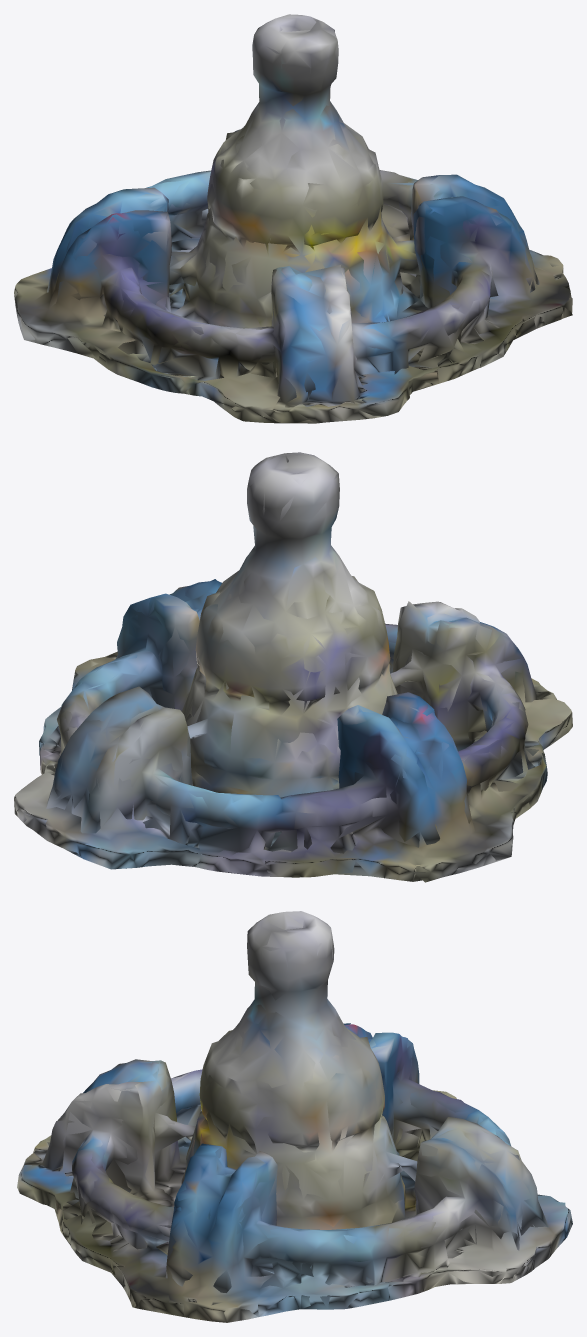
Rendered from allied_ore_purifier.glb.
The picture shows the model from 3 angles, top to bottom: view 1: azimuth 30°, elevation 25°; view 2: azimuth 150°, elevation 25°; view 3: azimuth 270°, elevation 25°; orthographic projection. The views are drawn at different scales.
Visible parts, largest first — view 1: allied_ore_purifier; view 2: allied_ore_purifier; view 3: allied_ore_purifier.
Boxes of the visible parts, <box> form: allied_ore_purifier: <box>14,14,572,423</box>; allied_ore_purifier: <box>14,452,572,882</box>; allied_ore_purifier: <box>17,911,572,1322</box>.
Bounding box in the file's own units: 2.16 × 1.28 × 2.19.
